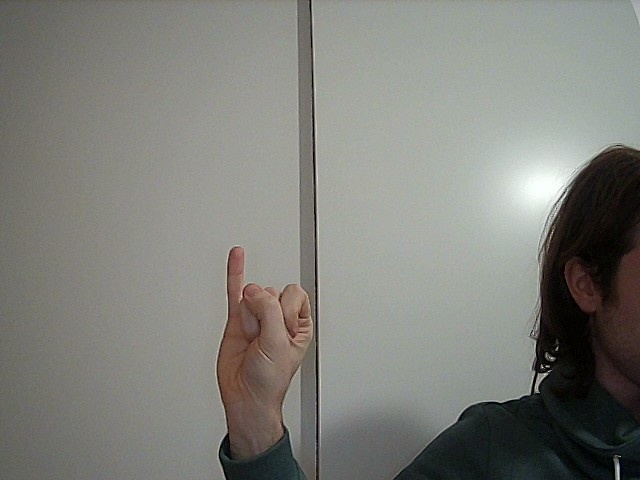i: (196, 232, 331, 400)
